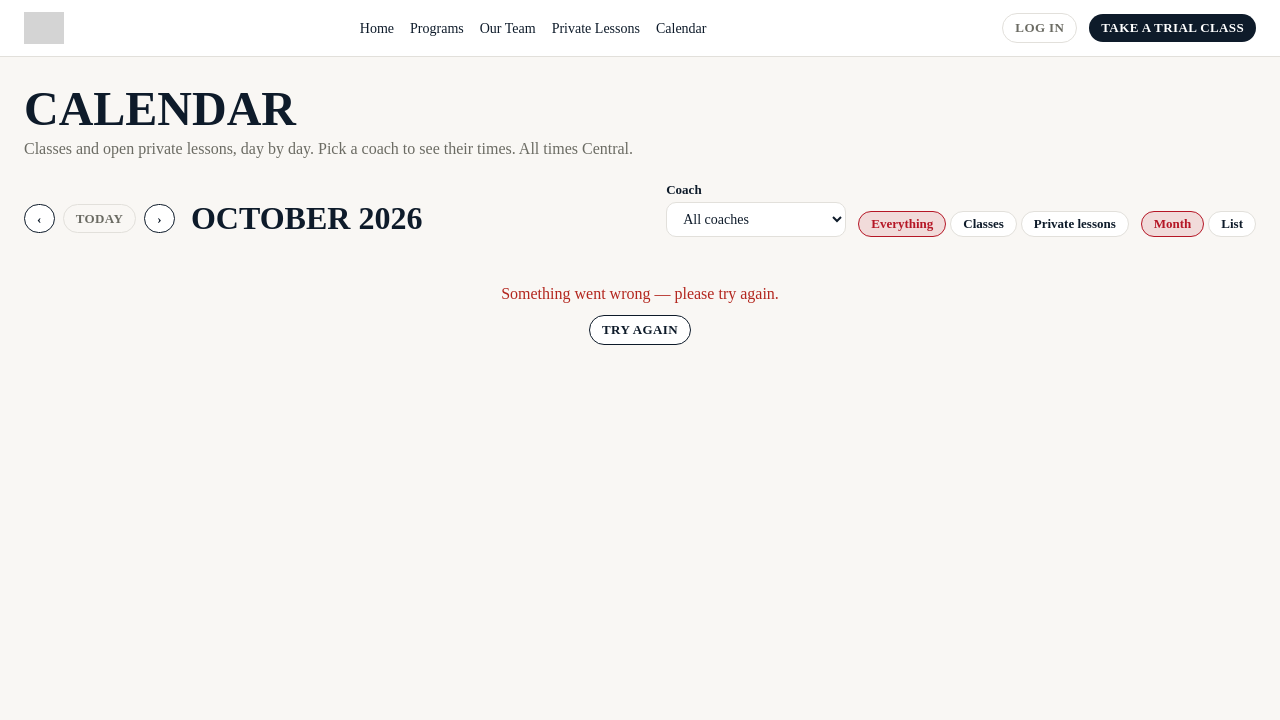
Test: CalendarPage › renders LoadError with a working retry on a failed load
Check: the message "Something went wrong — please try again. Try again" is shown, box left=501, top=285, right=779, bottom=345
Click the button "Try again": (640, 330) left=589, top=315, right=691, bottom=345
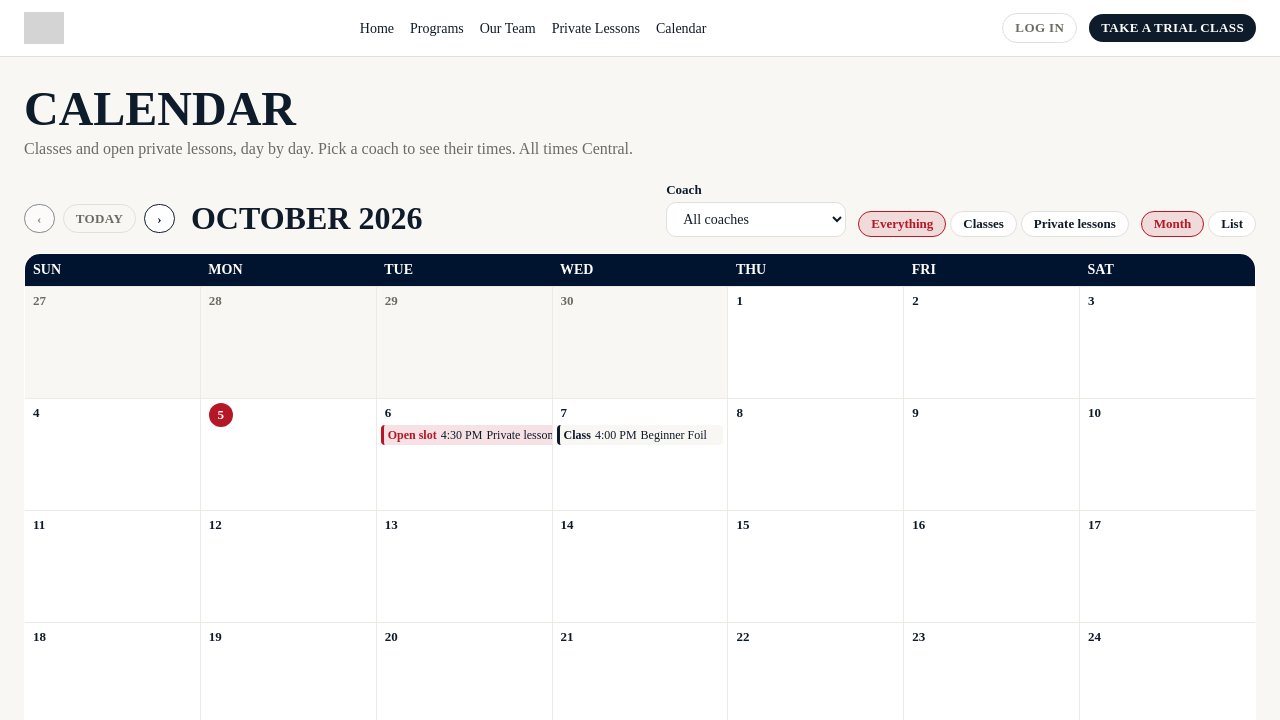
Check: the text "Open slot" is shown, box left=388, top=427, right=437, bottom=443
